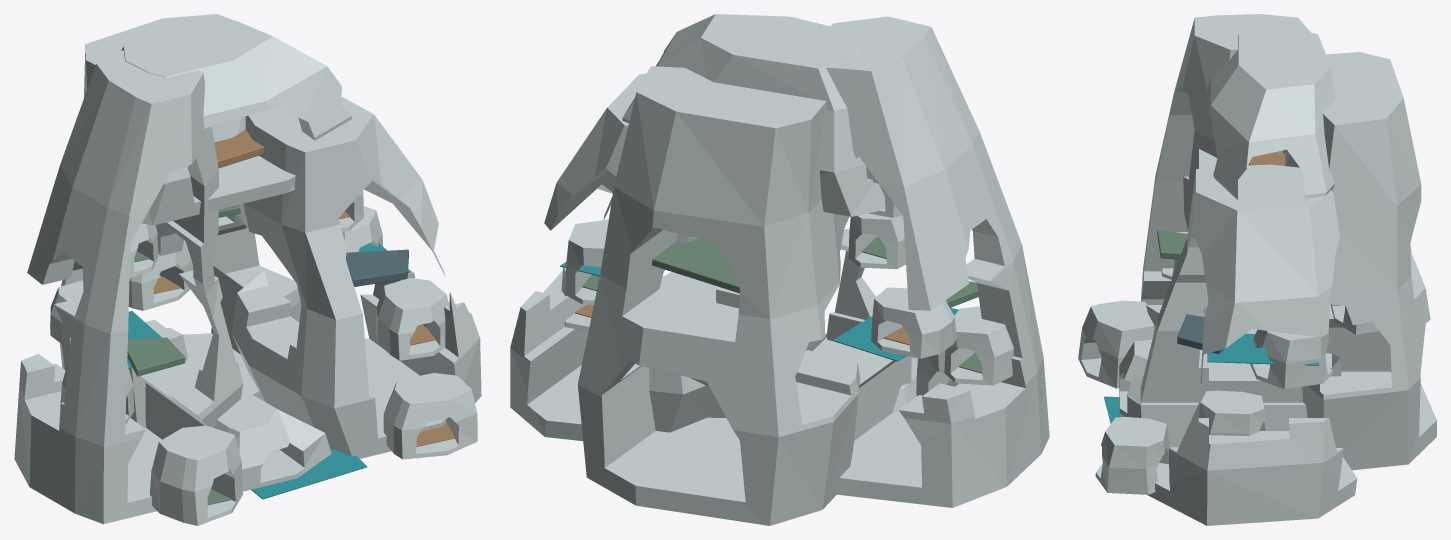
3 views of the same model, side by side, from view 1: azimuth 30°, elevation 25°; view 2: azimuth 150°, elevation 25°; view 3: azimuth 270°, elevation 25° (orthographic). The views are drawn at different scales.
Parts seen in each view (by area): view 1: C01_WEST_DEEP__inhabited_land, C02_EAST_TIDELAND__inhabited_land, C04_CONFLUENCE_SKY__inhabited_land, C03_REAR_ARCHIVE__inhabited_land, R1_S01__inhabited_land, R1_INNER_COAST__inhabited_land, R1_S02__inhabited_land, R1_E01__inhabited_land, R1_N01__inhabited_land, East collective ground, Lower confluence water, West suspended cultivation (+7 smaller); view 2: C03_REAR_ARCHIVE__inhabited_land, C01_WEST_DEEP__inhabited_land, C02_EAST_TIDELAND__inhabited_land, C04_CONFLUENCE_SKY__inhabited_land, R1_W02__inhabited_land, R1_W01__inhabited_land, Rear deep cultivation, R1_W03__inhabited_land, R1_E02__inhabited_land, Upper tidal world, R1_S02__inhabited_land, R1_S01__inhabited_land (+1 smaller); view 3: C02_EAST_TIDELAND__inhabited_land, C03_REAR_ARCHIVE__inhabited_land, C04_CONFLUENCE_SKY__inhabited_land, C01_WEST_DEEP__inhabited_land, R1_S02__inhabited_land, R1_S01__inhabited_land, R1_E02__inhabited_land, R1_E01__inhabited_land, R1_INNER_COAST__inhabited_land, East inner sea, East collective ground, West suspended cultivation (+1 smaller).
Boxes of the visible parts, x1,y1,x2,y2 form: C01_WEST_DEEP__inhabited_land: (14, 50, 243, 524); C02_EAST_TIDELAND__inhabited_land: (232, 96, 481, 458); C04_CONFLUENCE_SKY__inhabited_land: (121, 20, 351, 225); C03_REAR_ARCHIVE__inhabited_land: (60, 14, 301, 427); R1_S01__inhabited_land: (150, 425, 242, 525); R1_INNER_COAST__inhabited_land: (214, 391, 331, 491); R1_S02__inhabited_land: (383, 373, 477, 459); R1_E01__inhabited_land: (375, 278, 449, 360); R1_N01__inhabited_land: (128, 240, 192, 310); East collective ground: (346, 249, 408, 286); Lower confluence water: (251, 448, 367, 499); West suspended cultivation: (127, 337, 185, 376); C03_REAR_ARCHIVE__inhabited_land: (577, 66, 859, 525); C01_WEST_DEEP__inhabited_land: (801, 16, 1049, 507); C02_EAST_TIDELAND__inhabited_land: (510, 73, 739, 440); C04_CONFLUENCE_SKY__inhabited_land: (622, 14, 885, 216); R1_W02__inhabited_land: (871, 287, 956, 358); R1_W01__inhabited_land: (944, 306, 1014, 385); Rear deep cultivation: (652, 238, 739, 293); R1_W03__inhabited_land: (848, 213, 905, 269); R1_E02__inhabited_land: (565, 219, 608, 304); Upper tidal world: (833, 307, 958, 361); R1_S02__inhabited_land: (659, 272, 718, 302); R1_S01__inhabited_land: (916, 350, 951, 396); C02_EAST_TIDELAND__inhabited_land: (1140, 164, 1357, 525); C03_REAR_ARCHIVE__inhabited_land: (1283, 52, 1436, 470); C04_CONFLUENCE_SKY__inhabited_land: (1199, 28, 1335, 199); C01_WEST_DEEP__inhabited_land: (1141, 14, 1310, 333); R1_S02__inhabited_land: (1095, 417, 1169, 494); R1_S01__inhabited_land: (1078, 300, 1155, 388); R1_E02__inhabited_land: (1250, 329, 1332, 389); R1_E01__inhabited_land: (1199, 390, 1265, 435); R1_INNER_COAST__inhabited_land: (1119, 339, 1152, 417); East inner sea: (1207, 333, 1318, 365); East collective ground: (1177, 314, 1223, 354); West suspended cultivation: (1157, 230, 1187, 259).
Size of the model in its own units: 5430 by 4560 by 4170.
